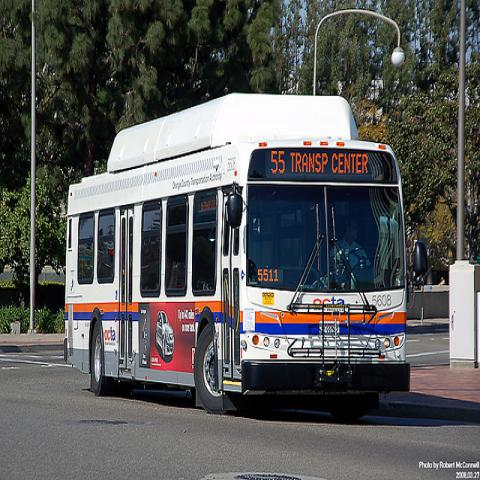bus: (62, 94, 414, 426)
